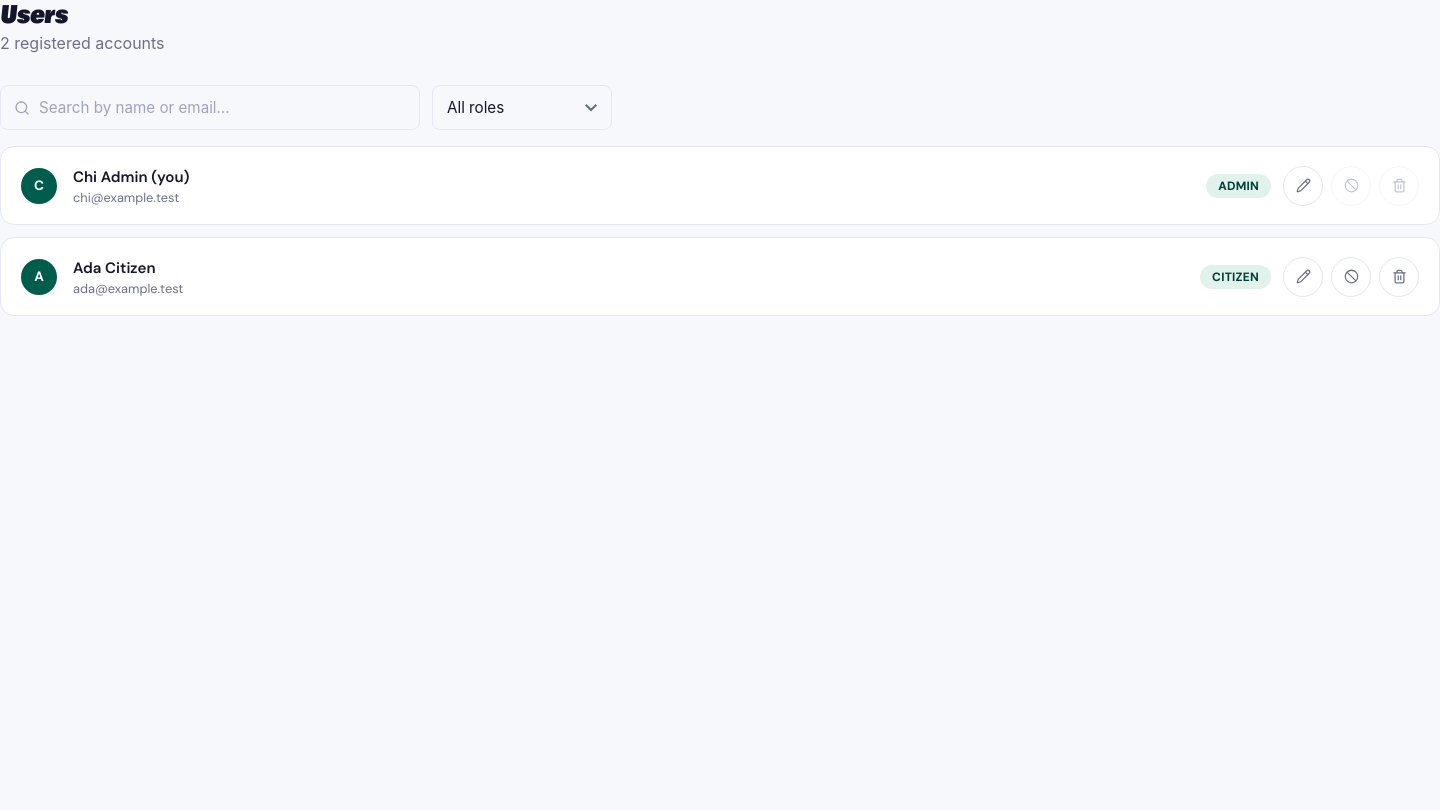
Test case: UsersPage › edits a user through a dialog with labelled fields and saves name, phone and role
Expected: the text "Ada Citizen" is shown, [73, 258, 156, 278]
Click the button named "Edit user" in the row of "ada@example.test": (1303, 276) [1283, 256, 1323, 296]
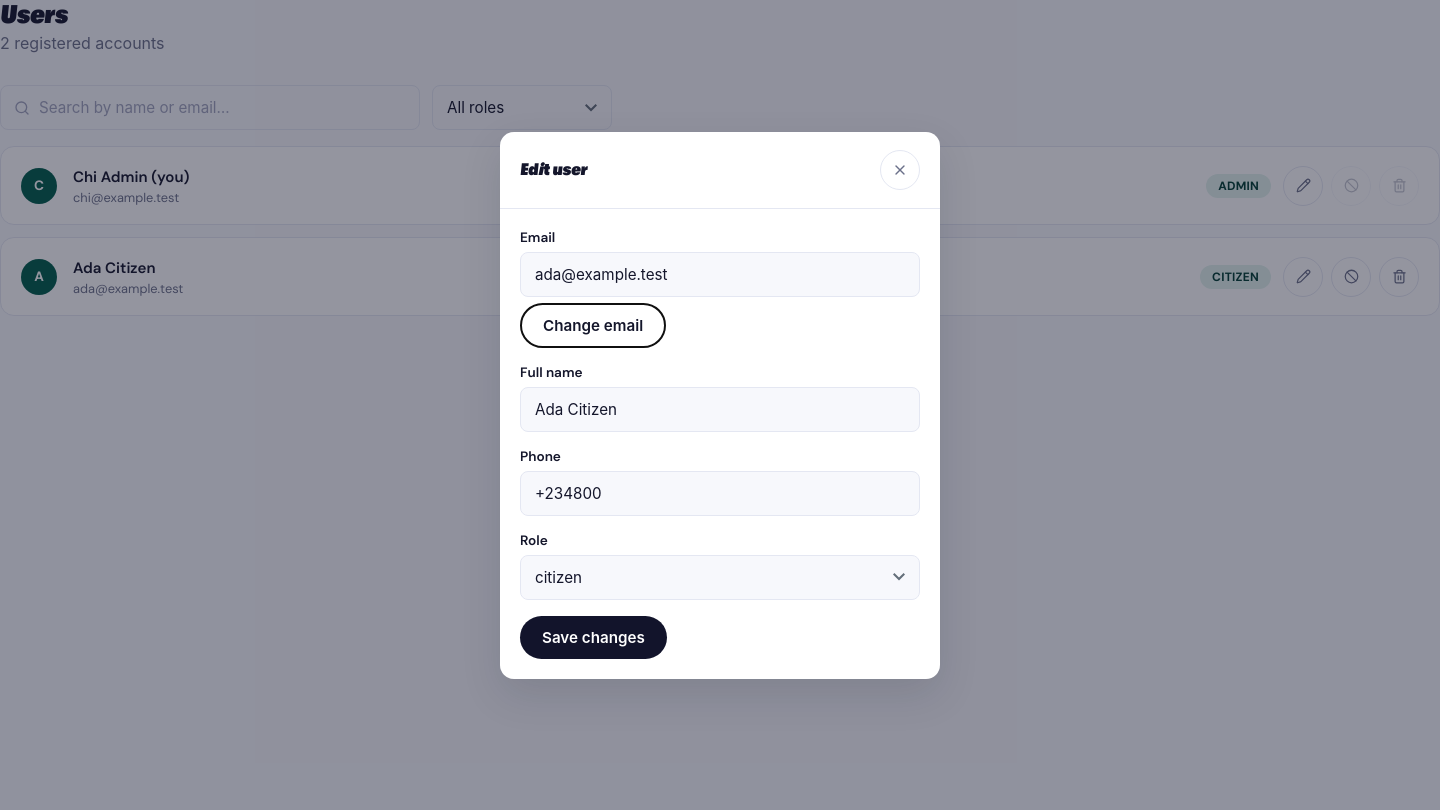
Now the field labelled "Email" holds "ada@example.test", box [520, 252, 920, 296]
Now the field labelled "Email" is disabled, box [520, 252, 920, 296]
Replace the text in the field labelled "Full name" with "Ada Renamed": (720, 409) [520, 386, 920, 432]
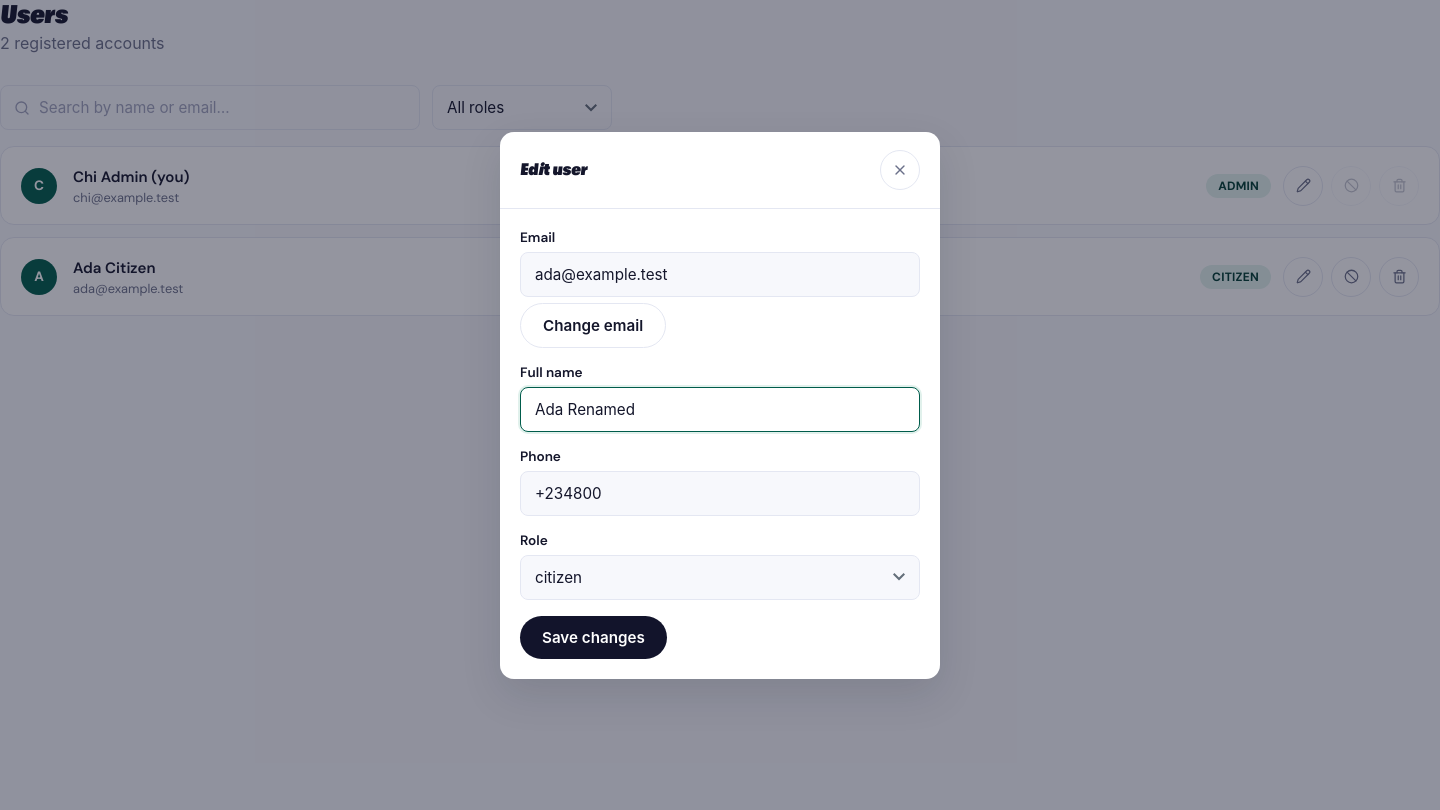
Select "agency" in the dropdown labelled "Role": (720, 577) [520, 554, 920, 600]
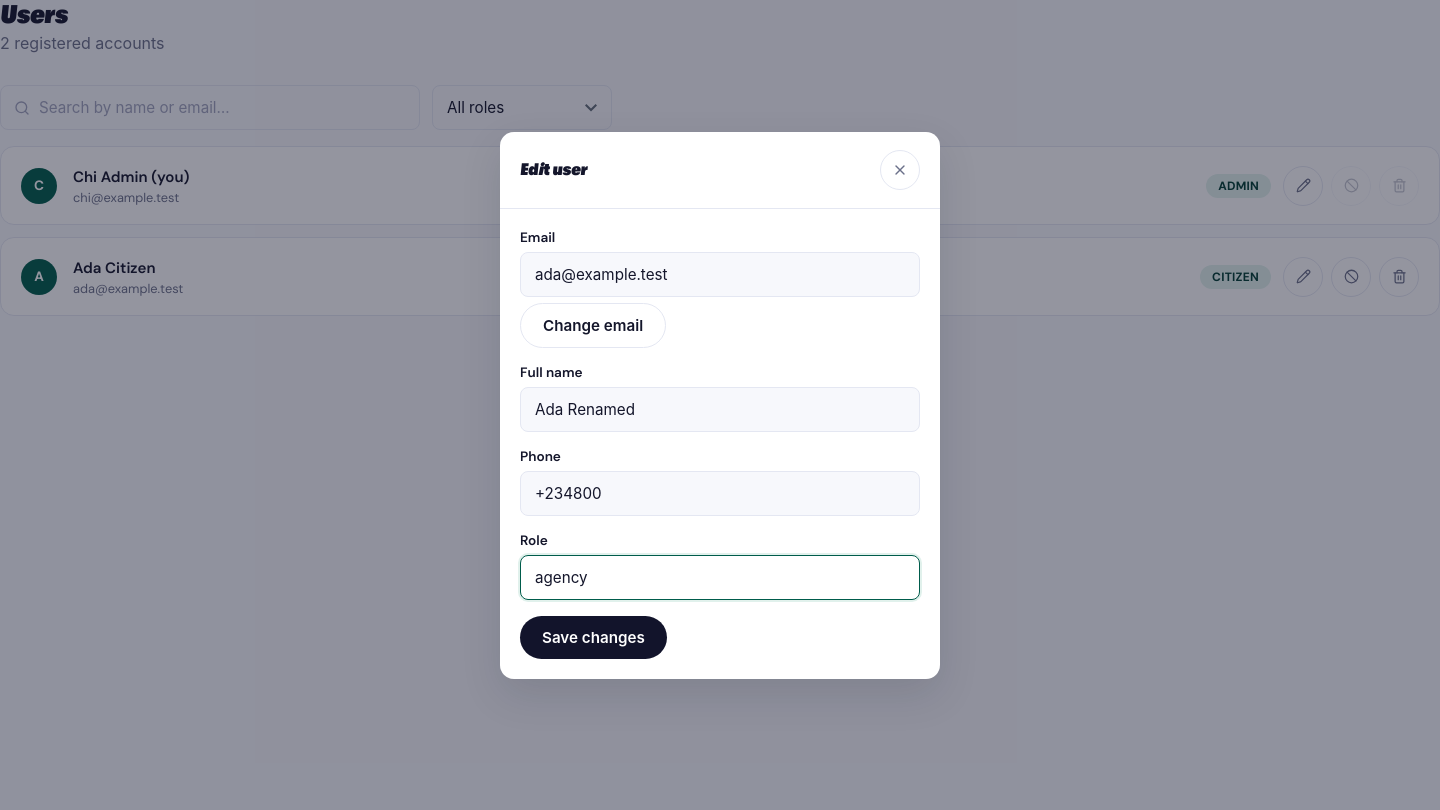
Click the button "Save changes": (593, 637) [520, 616, 667, 658]
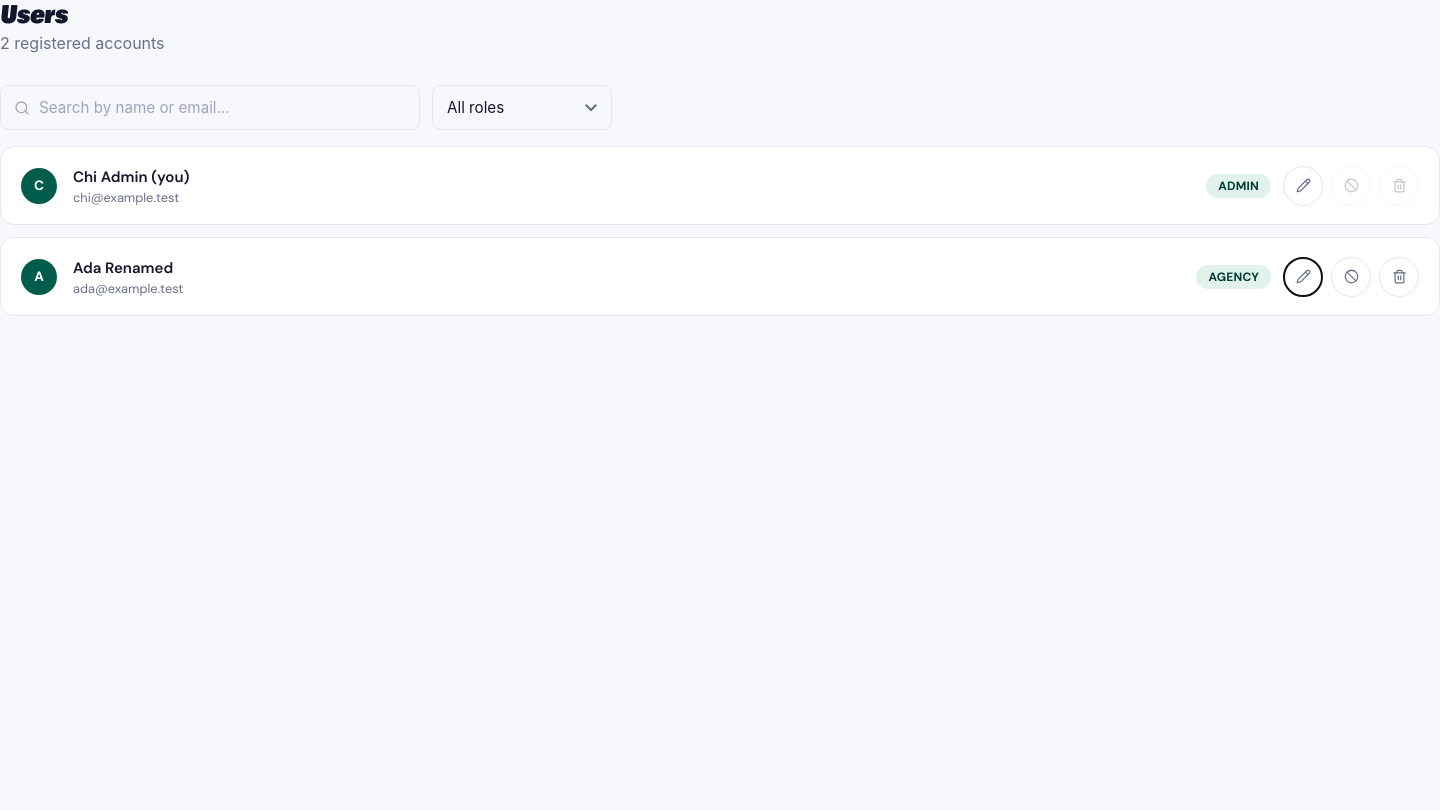
Now the text "Ada Renamed" is shown, box [73, 258, 173, 278]
